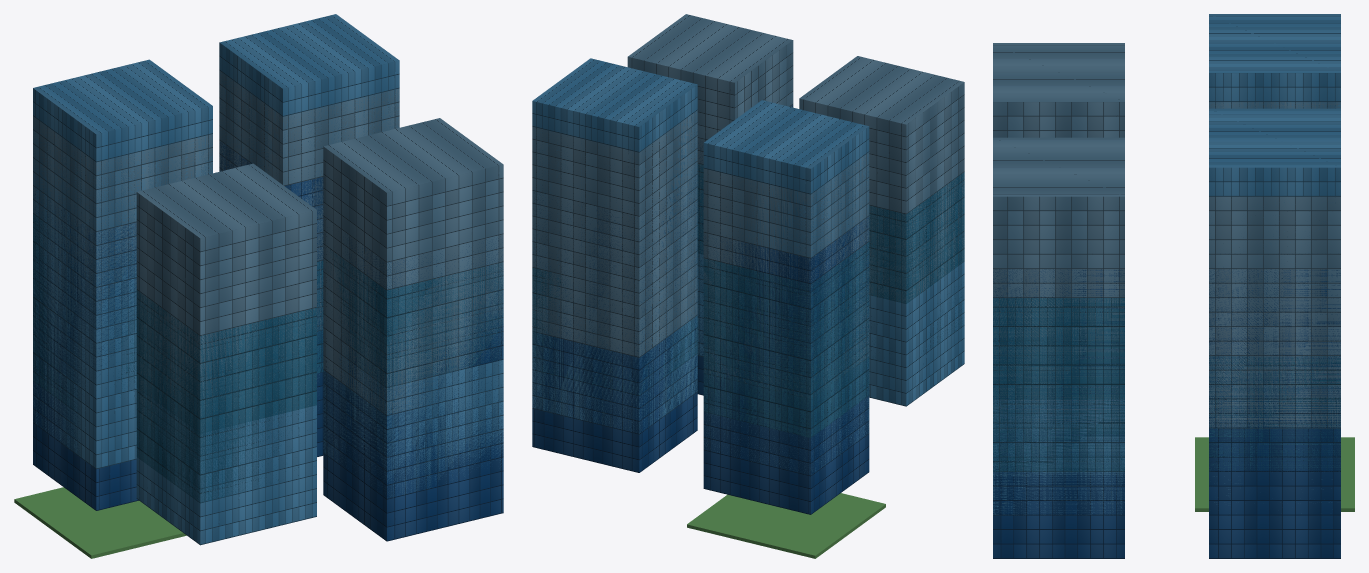
The model's file is Catalog-62.glb.
The picture shows the model from 3 angles, left to right: view 1: azimuth 30°, elevation 25°; view 2: azimuth 150°, elevation 25°; view 3: azimuth 270°, elevation 25°; orthographic projection. The views are drawn at different scales.
Parts seen in each view (by area): view 1: Metropolis Glass SilverBlue (×4), Metropolis Glass Glacier (×4), Metropolis Glass Cerulean (×4), Metropolis Glass Azure (×3), Metropolis Green; view 2: Metropolis Glass SilverBlue (×4), Metropolis Glass Glacier (×4), Metropolis Glass Azure (×3), Metropolis Glass Cerulean (×4), Metropolis Green; view 3: Metropolis Glass SilverBlue (×4), Metropolis Glass Azure (×2), Metropolis Glass Glacier (×3), Metropolis Glass Cerulean (×2), Metropolis Green.
Boxes of the visible parts, x1=… form: Metropolis Glass SilverBlue (×4): x1=33, y1=70, x2=503, y2=455; Metropolis Glass Glacier (×4): x1=33, y1=14, x2=503, y2=545; Metropolis Glass Cerulean (×4): x1=33, y1=214, x2=503, y2=503; Metropolis Glass Azure (×3): x1=33, y1=140, x2=503, y2=541; Metropolis Green: x1=14, y1=487, x2=186, y2=558; Metropolis Glass SilverBlue (×4): x1=532, y1=14, x2=964, y2=397; Metropolis Glass Glacier (×4): x1=532, y1=58, x2=964, y2=475; Metropolis Glass Azure (×3): x1=532, y1=105, x2=869, y2=514; Metropolis Glass Cerulean (×4): x1=532, y1=164, x2=964, y2=437; Metropolis Green: x1=687, y1=493, x2=885, y2=558; Metropolis Glass SilverBlue (×4): x1=993, y1=43, x2=1340, y2=428; Metropolis Glass Azure (×2): x1=993, y1=269, x2=1340, y2=558; Metropolis Glass Glacier (×3): x1=993, y1=14, x2=1340, y2=515; Metropolis Glass Cerulean (×2): x1=993, y1=298, x2=1340, y2=471; Metropolis Green: x1=1195, y1=437, x2=1354, y2=511.
Size of the model in its own units: 94.5 by 120 by 90.5.
Materials: 16 (15 with a texture image).
